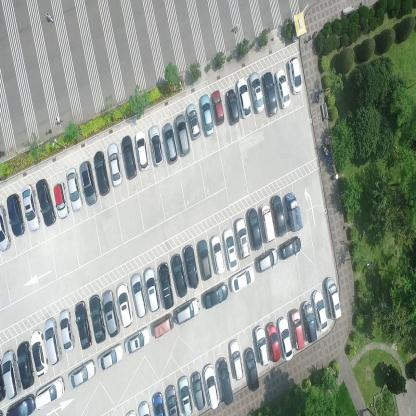car: (34, 373, 64, 410), (35, 178, 57, 226), (1, 350, 22, 400), (100, 289, 121, 338), (15, 342, 36, 389), (72, 301, 92, 350), (43, 316, 63, 365), (29, 329, 49, 378), (67, 357, 95, 391), (5, 193, 26, 237), (21, 184, 40, 232), (88, 294, 106, 344), (116, 280, 134, 329), (216, 354, 233, 405), (66, 166, 84, 214), (324, 274, 342, 322), (202, 362, 220, 410), (56, 309, 76, 352), (79, 159, 97, 206), (174, 294, 200, 326), (123, 325, 151, 354), (276, 316, 294, 361), (247, 71, 265, 115), (262, 69, 278, 118), (93, 149, 110, 195), (171, 252, 188, 298), (130, 271, 147, 317), (301, 298, 318, 344), (97, 342, 123, 372), (158, 261, 174, 309), (120, 135, 137, 180), (285, 190, 303, 232), (202, 282, 229, 310), (182, 244, 199, 288), (289, 307, 306, 351), (222, 226, 238, 272), (144, 266, 160, 312), (235, 76, 252, 119), (174, 115, 191, 158), (270, 194, 287, 237), (247, 207, 263, 252), (230, 264, 254, 294), (259, 202, 276, 244), (148, 123, 164, 167), (235, 216, 251, 260), (312, 289, 328, 333), (266, 320, 282, 364), (107, 142, 122, 188), (162, 122, 178, 165), (134, 130, 150, 172), (210, 233, 226, 275), (254, 324, 270, 366), (244, 348, 260, 390), (228, 338, 244, 380), (6, 392, 35, 415), (199, 93, 214, 137), (275, 68, 291, 108), (184, 102, 200, 142), (198, 237, 212, 282), (53, 181, 69, 220), (190, 371, 206, 410), (178, 375, 193, 415), (152, 312, 174, 339), (288, 54, 302, 94), (225, 88, 240, 125), (278, 236, 301, 260), (256, 248, 278, 273), (0, 203, 11, 251), (210, 89, 224, 125), (164, 386, 180, 416), (151, 391, 165, 416)
